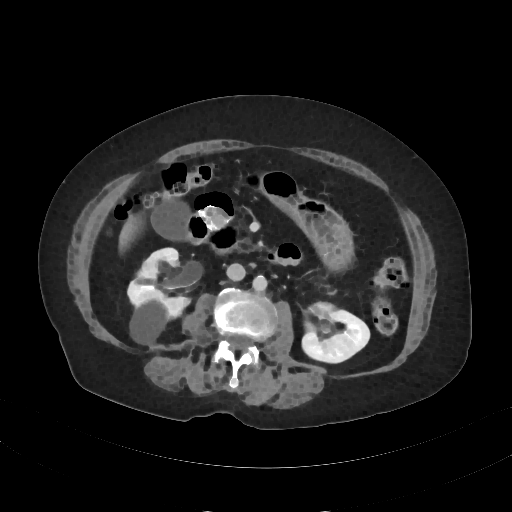Lesion: (129, 299, 169, 346)
